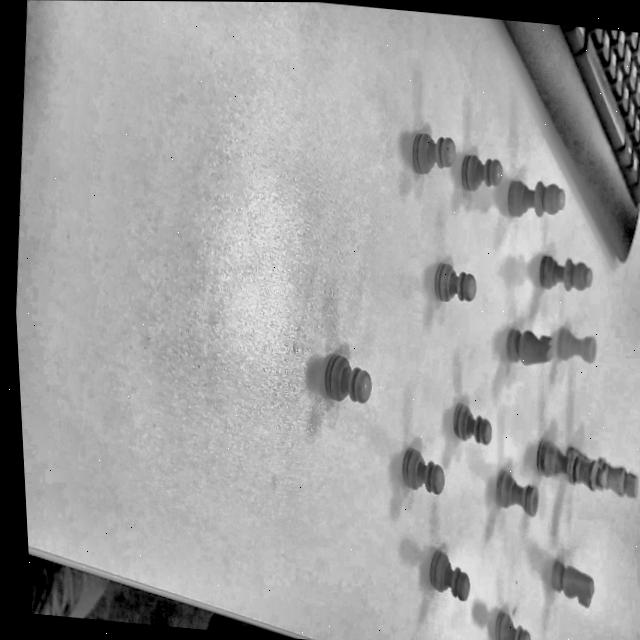white-bishop: (525, 240, 600, 296), (503, 170, 570, 223)
white-king: (560, 428, 640, 509)
white-knight: (543, 543, 598, 612), (497, 312, 559, 372)
white-pawn: (305, 328, 383, 411), (397, 101, 464, 184), (418, 243, 482, 313), (419, 537, 478, 612), (445, 388, 500, 457), (391, 437, 451, 500), (454, 147, 507, 201), (486, 598, 534, 640)
white-queen: (533, 424, 611, 502)
white-rook: (487, 461, 543, 522), (552, 315, 604, 369)
